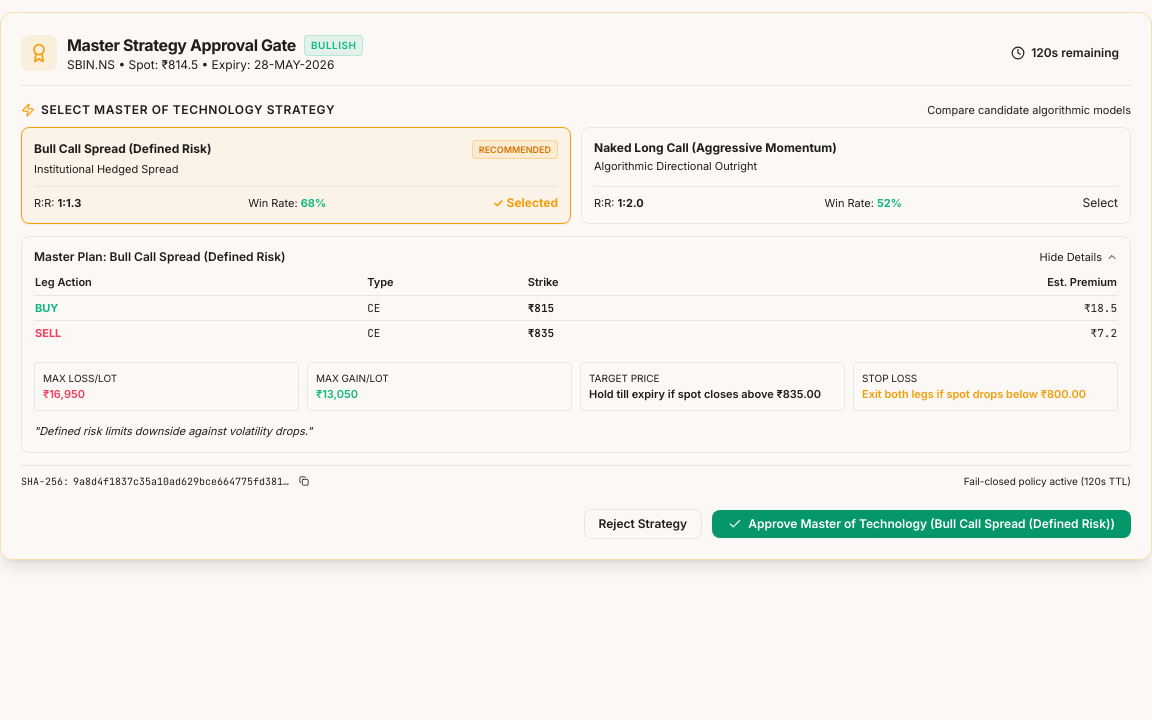
FinanceStrategyApprovalCard Component › allows switching the selected master candidate strategy
This screenshot has width=1152, height=720.
Note: Click the aggressive momentum candidate card
Click the text "Naked Long Call (Aggressive Momentum)" at coordinates (715, 148), box [594,140,837,156]
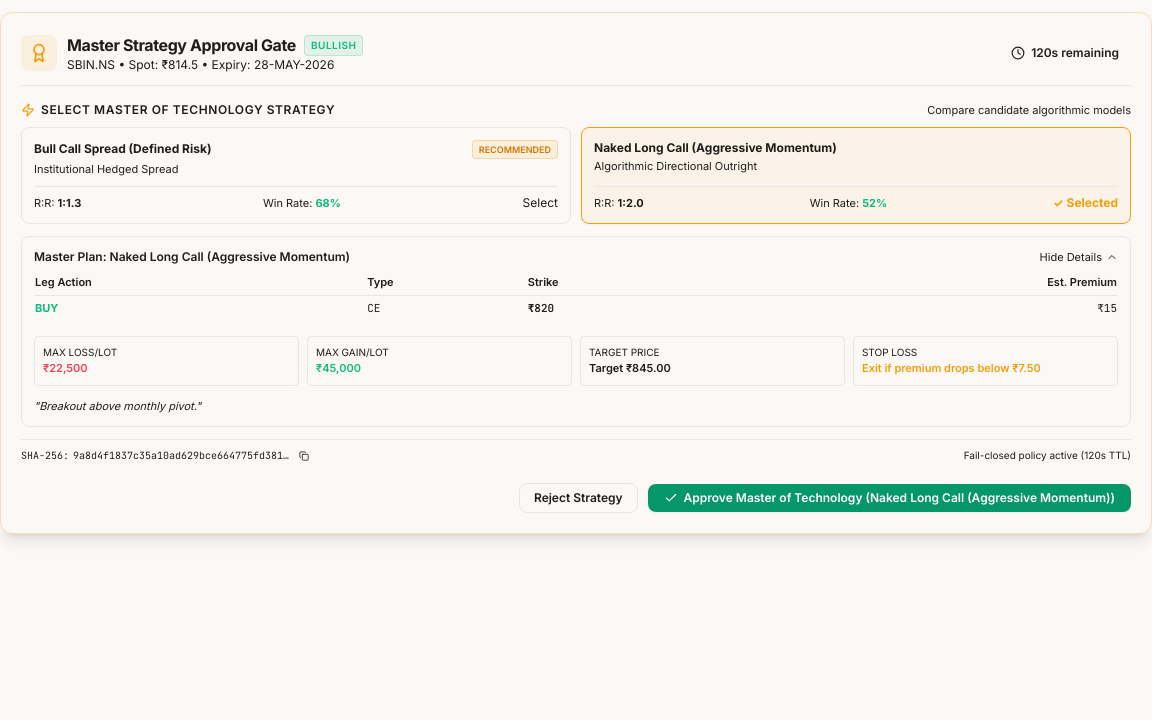
Check: the text "Master Plan: Naked Long Call (Aggressive Momentum)" is shown, box [34,249,350,265]
